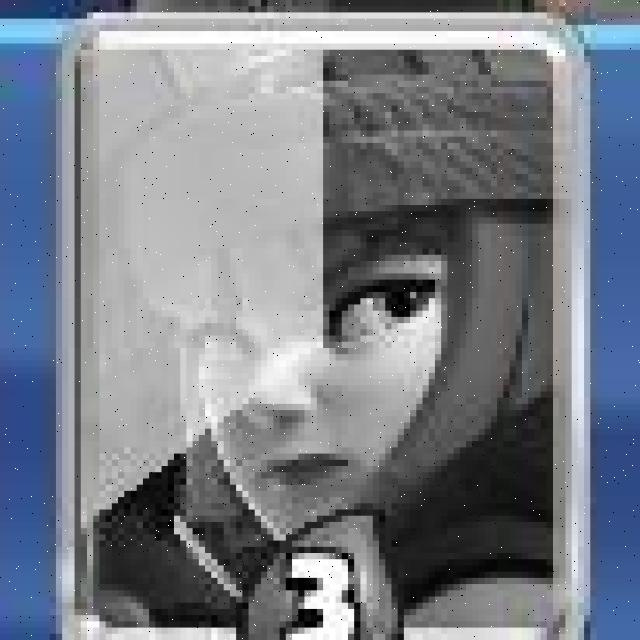Firecracker: (58, 10, 588, 640)
